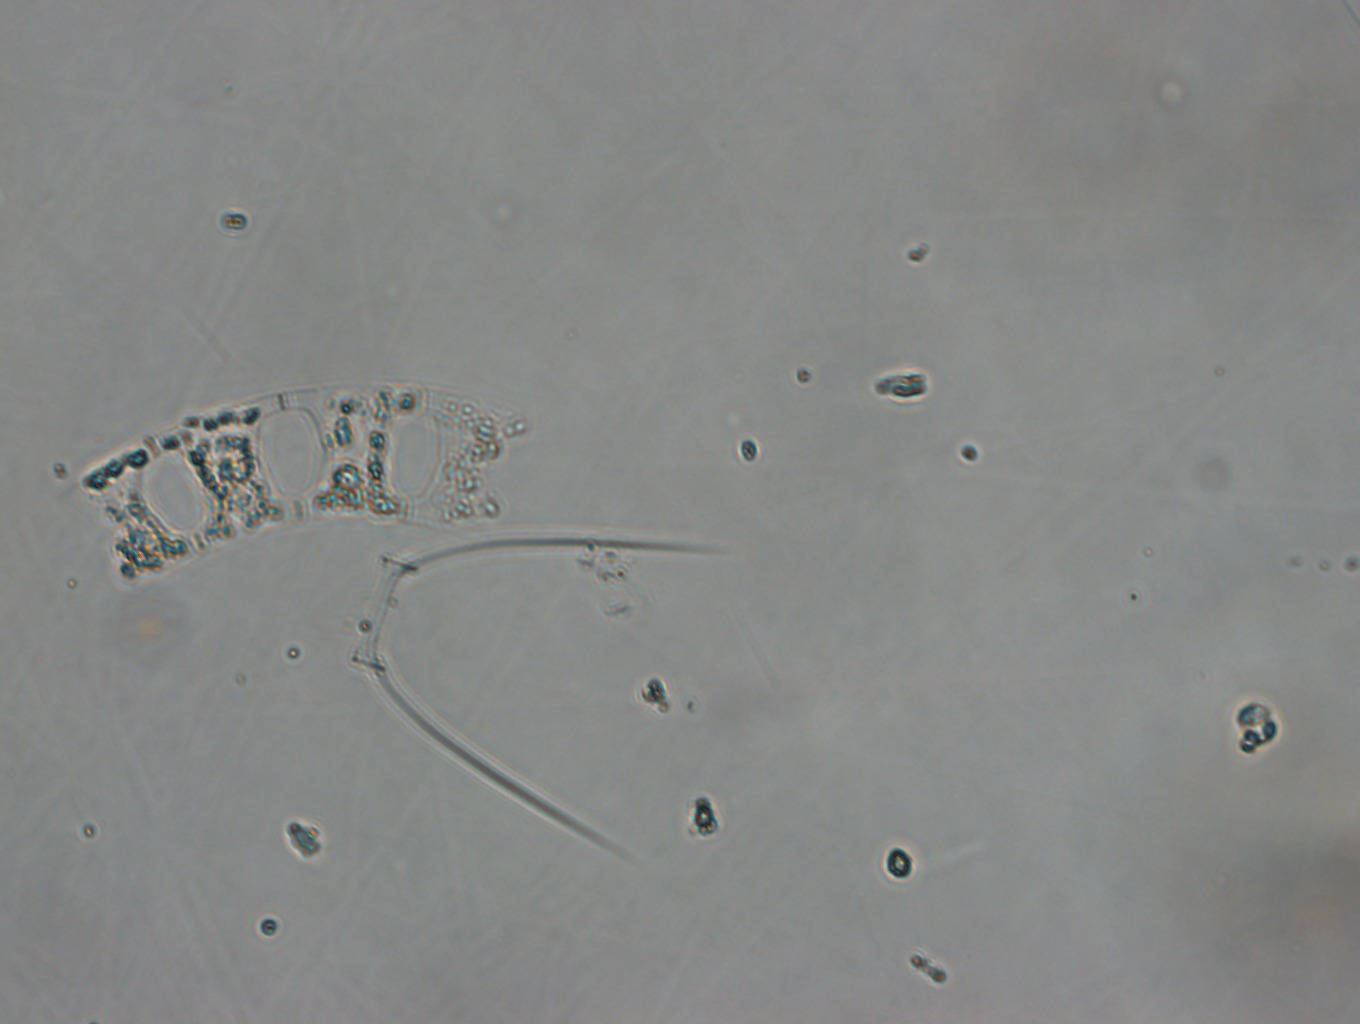eucampia: (81, 390, 528, 591)
